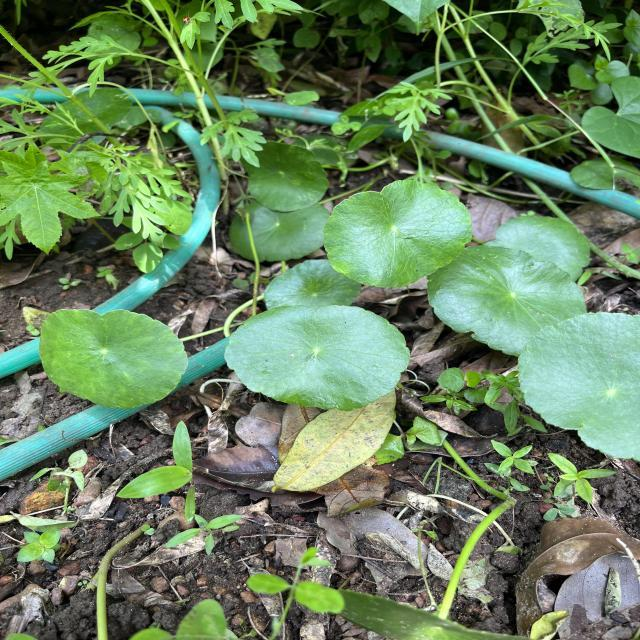Bacopa monnieri: (222, 303, 412, 413), (515, 310, 640, 463), (426, 244, 588, 358), (322, 178, 474, 289), (38, 308, 190, 410), (482, 214, 591, 284), (262, 258, 362, 312)
